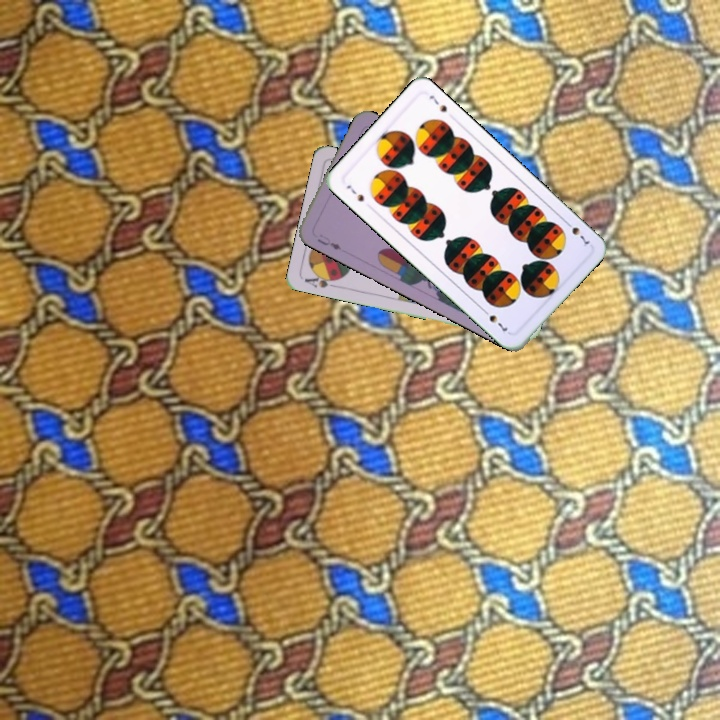EU: (313, 230, 344, 253)
S7: (561, 216, 593, 249), (342, 181, 366, 204)
SA: (300, 269, 342, 290)
